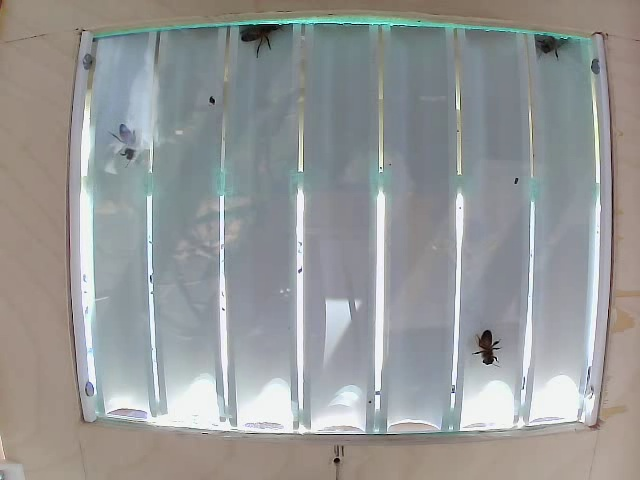bee: (114, 116, 161, 168), (239, 17, 297, 56), (477, 321, 515, 372)
